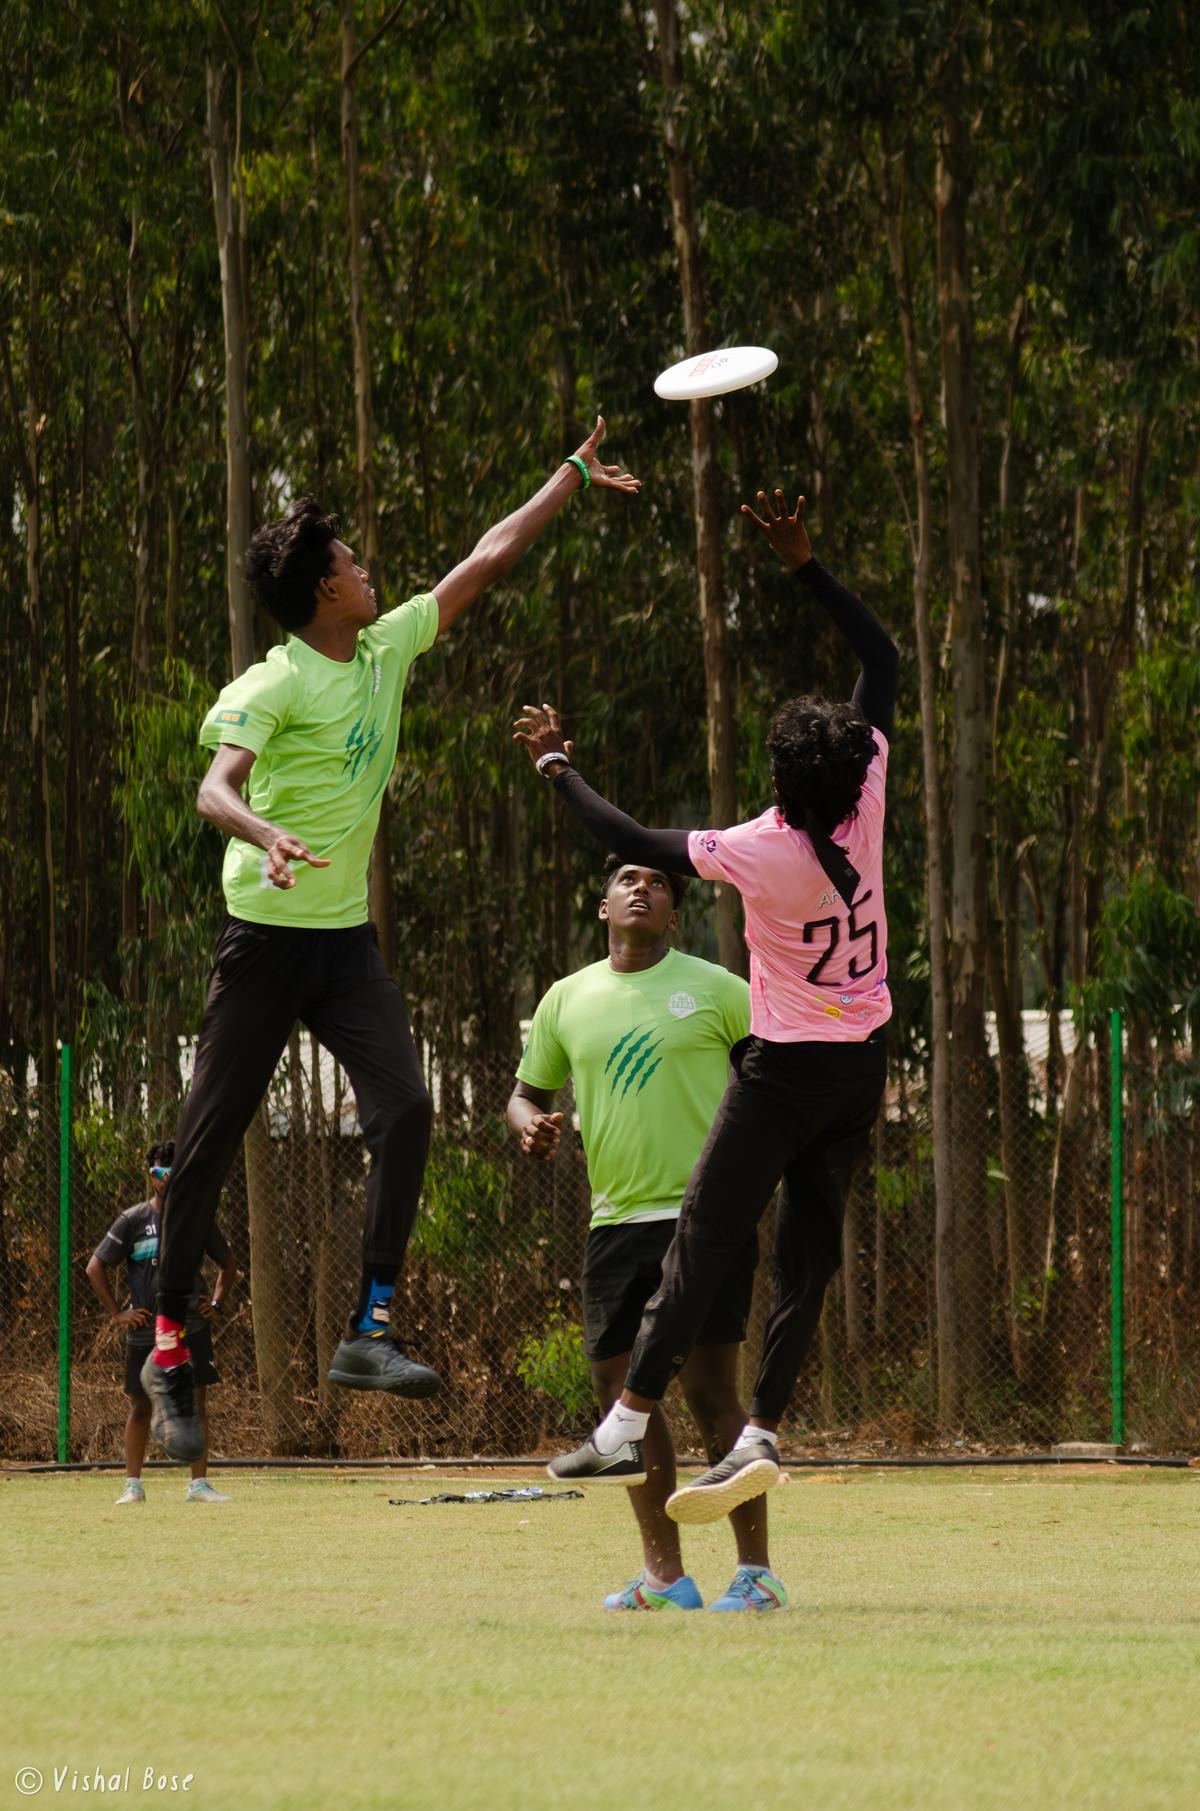disc: (651, 338, 792, 425)
